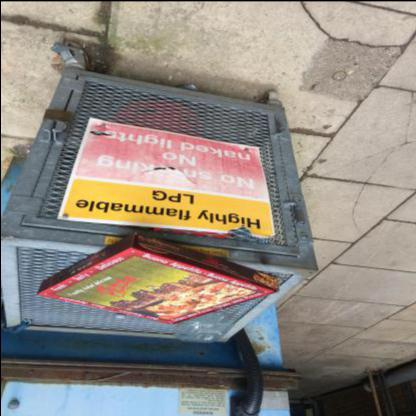Carton: (37, 231, 278, 323)
Plastic container: (172, 312, 233, 342)
